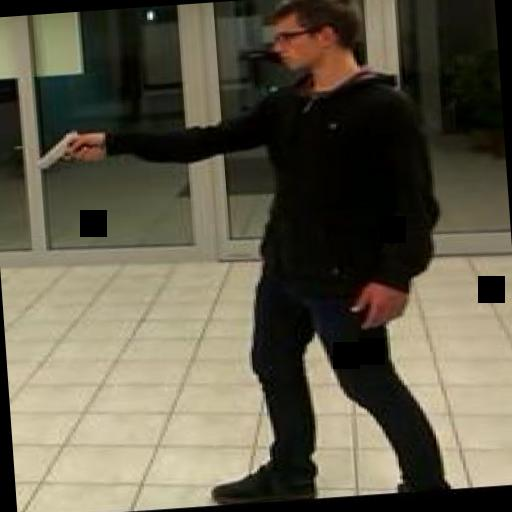Handgun: (27, 124, 99, 172)
